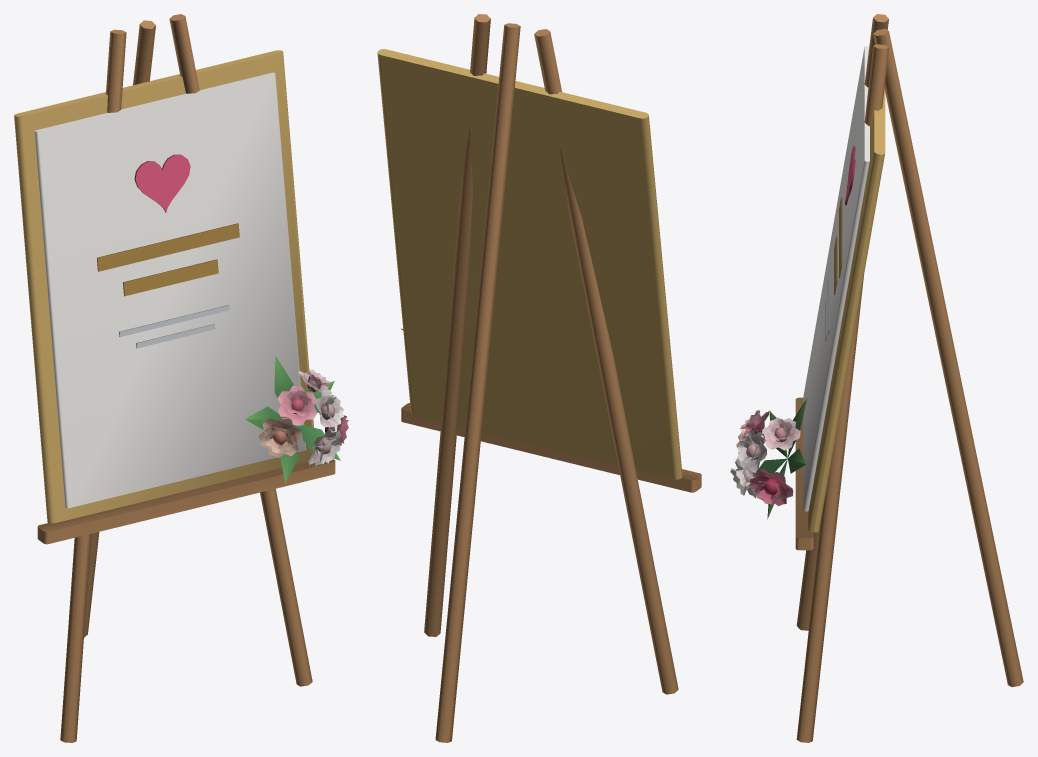
File: bang-don-khach.glb
The picture shows the model from 3 angles, left to right: view 1: azimuth 30°, elevation 25°; view 2: azimuth 150°, elevation 25°; view 3: azimuth 270°, elevation 25°; orthographic projection. The views are drawn at different scales.
Visible parts, largest first — view 1: bang-don-khach; view 2: bang-don-khach; view 3: bang-don-khach.
Part boxes in pixels (x1,y1,x2,y2): bang-don-khach: [14, 14, 348, 742]; bang-don-khach: [377, 14, 701, 742]; bang-don-khach: [730, 14, 1023, 742].
Size of the model in its own units: 0.7487 by 1.61 by 0.6535.
